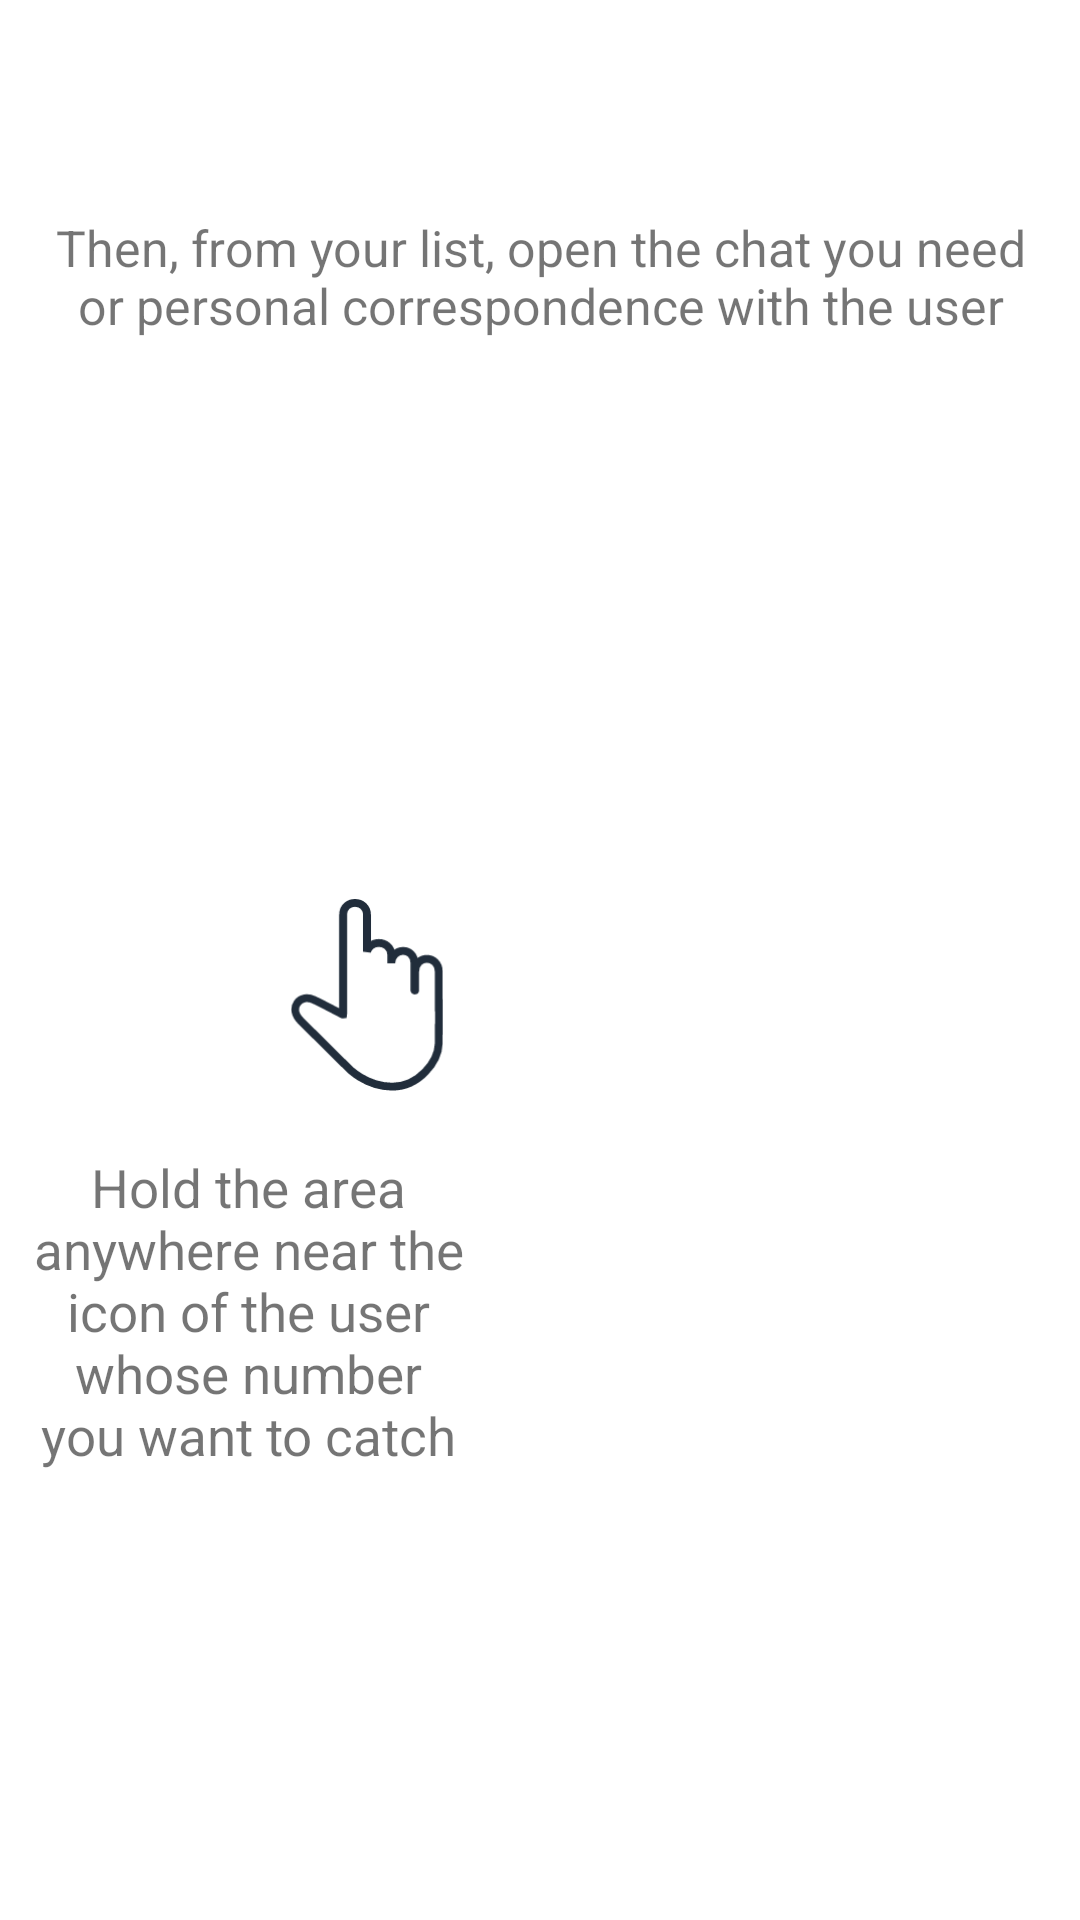

Icon click points for this 1080x1920 phone screenshot, format (x=x, y=y):
tutor hand: (x=367, y=995)
